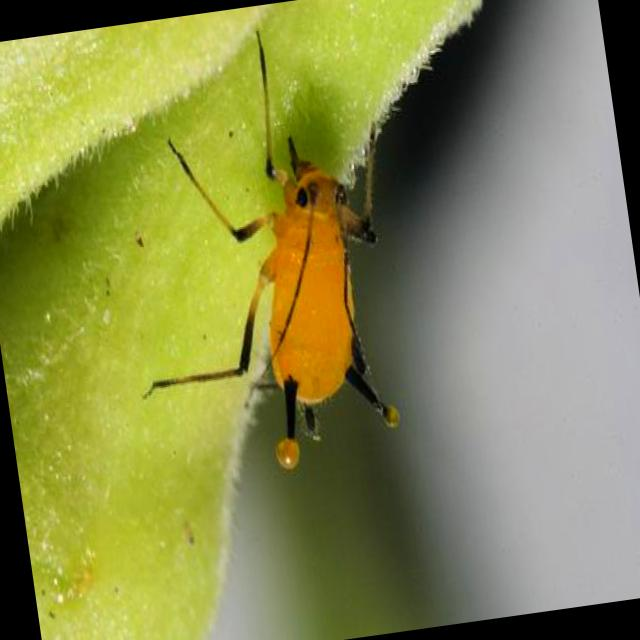Aphids: (104, 55, 444, 492)
